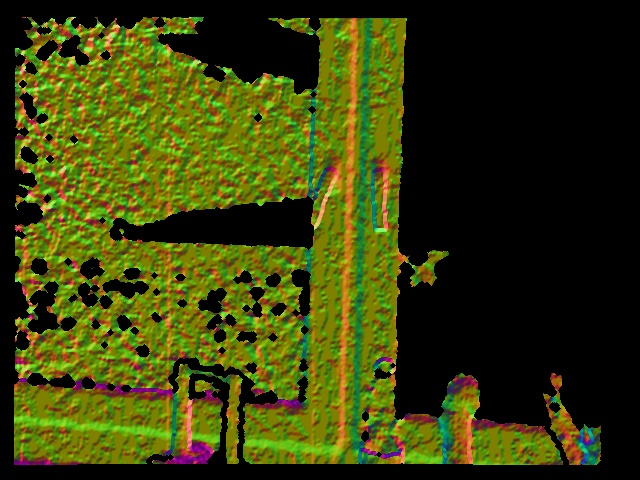station: (152, 359, 249, 471)
